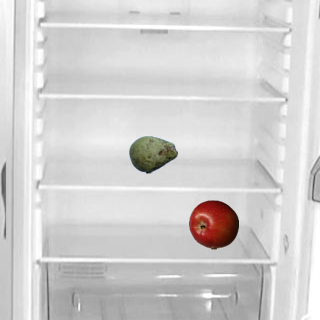Apple Braeburn: (188, 199, 238, 249)
Pear Stone: (128, 129, 178, 179)
